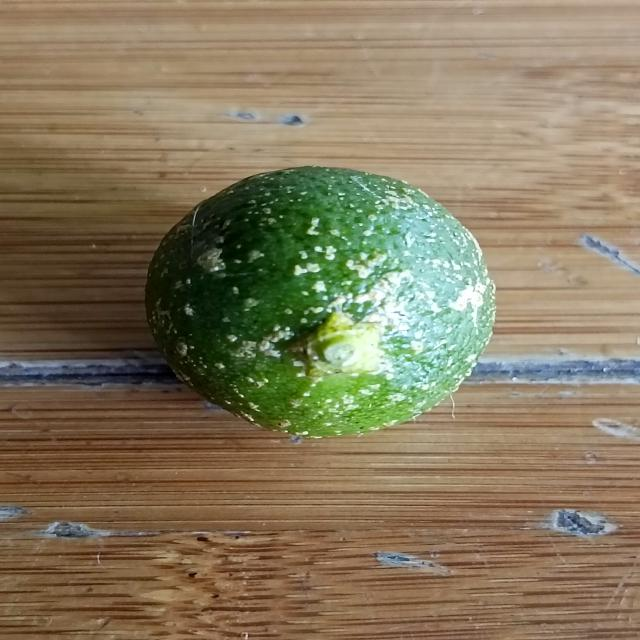scab: (142, 153, 493, 450)
